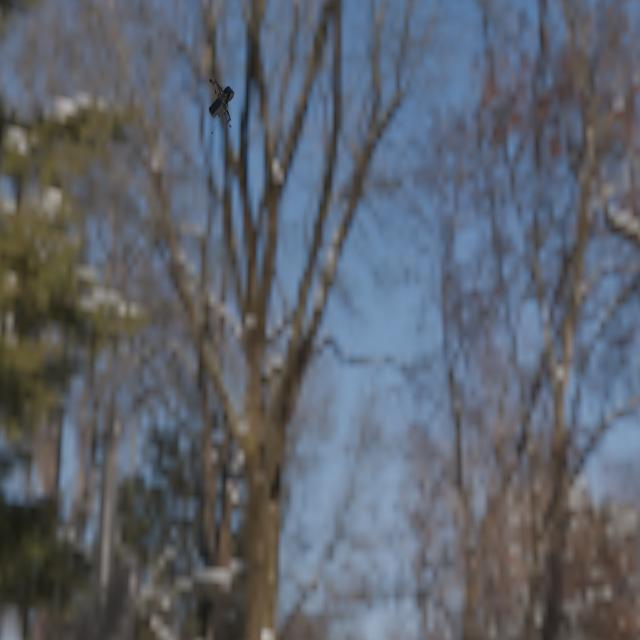drone: (209, 78, 234, 135)
